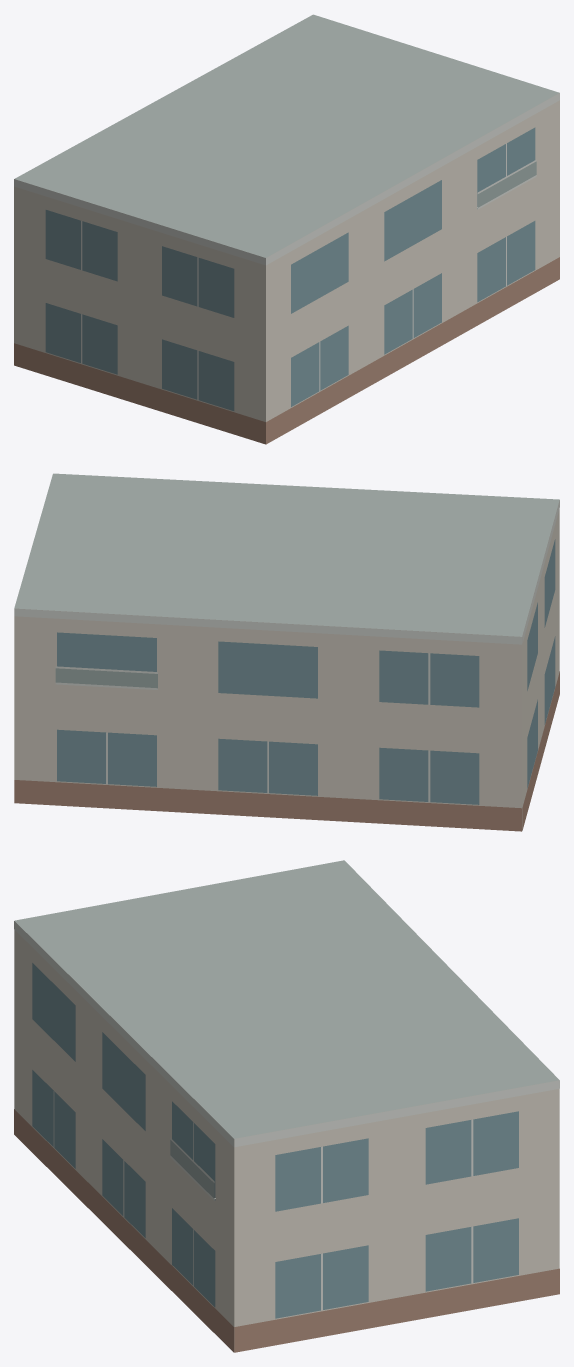
The model's file is survey-upis-32616557.glb.
3 views of the same model, one above another, from view 1: azimuth 30°, elevation 25°; view 2: azimuth 150°, elevation 25°; view 3: azimuth 270°, elevation 25° (orthographic). The views are drawn at different scales.
Parts seen in each view (by area): view 1: survey-upis-32616557.tmp; view 2: survey-upis-32616557.tmp; view 3: survey-upis-32616557.tmp.
Part boxes in pixels (x1,y1,x2,y2): survey-upis-32616557.tmp: [14, 14, 559, 444]; survey-upis-32616557.tmp: [14, 473, 559, 831]; survey-upis-32616557.tmp: [14, 860, 559, 1352].
Bounding box in the file's own units: 17.05 × 6.1 × 14.11.
